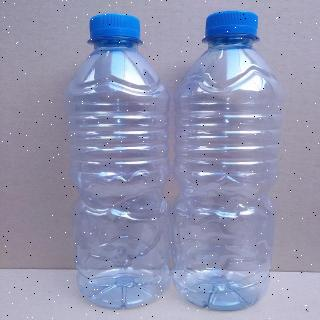Plastic-bottle: (165, 6, 283, 310), (59, 10, 177, 312)
